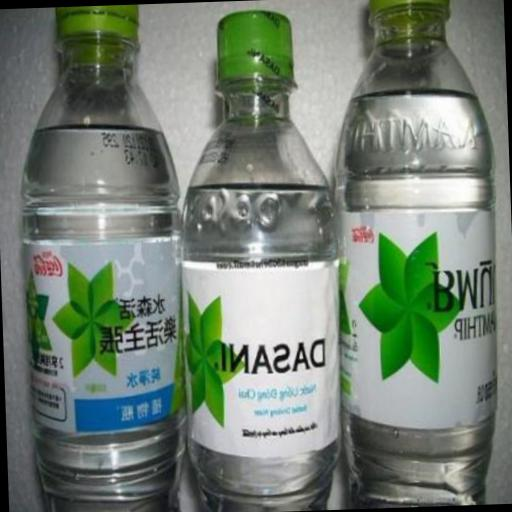Coca: (156, 2, 353, 512), (317, 0, 512, 507), (9, 2, 195, 512)
